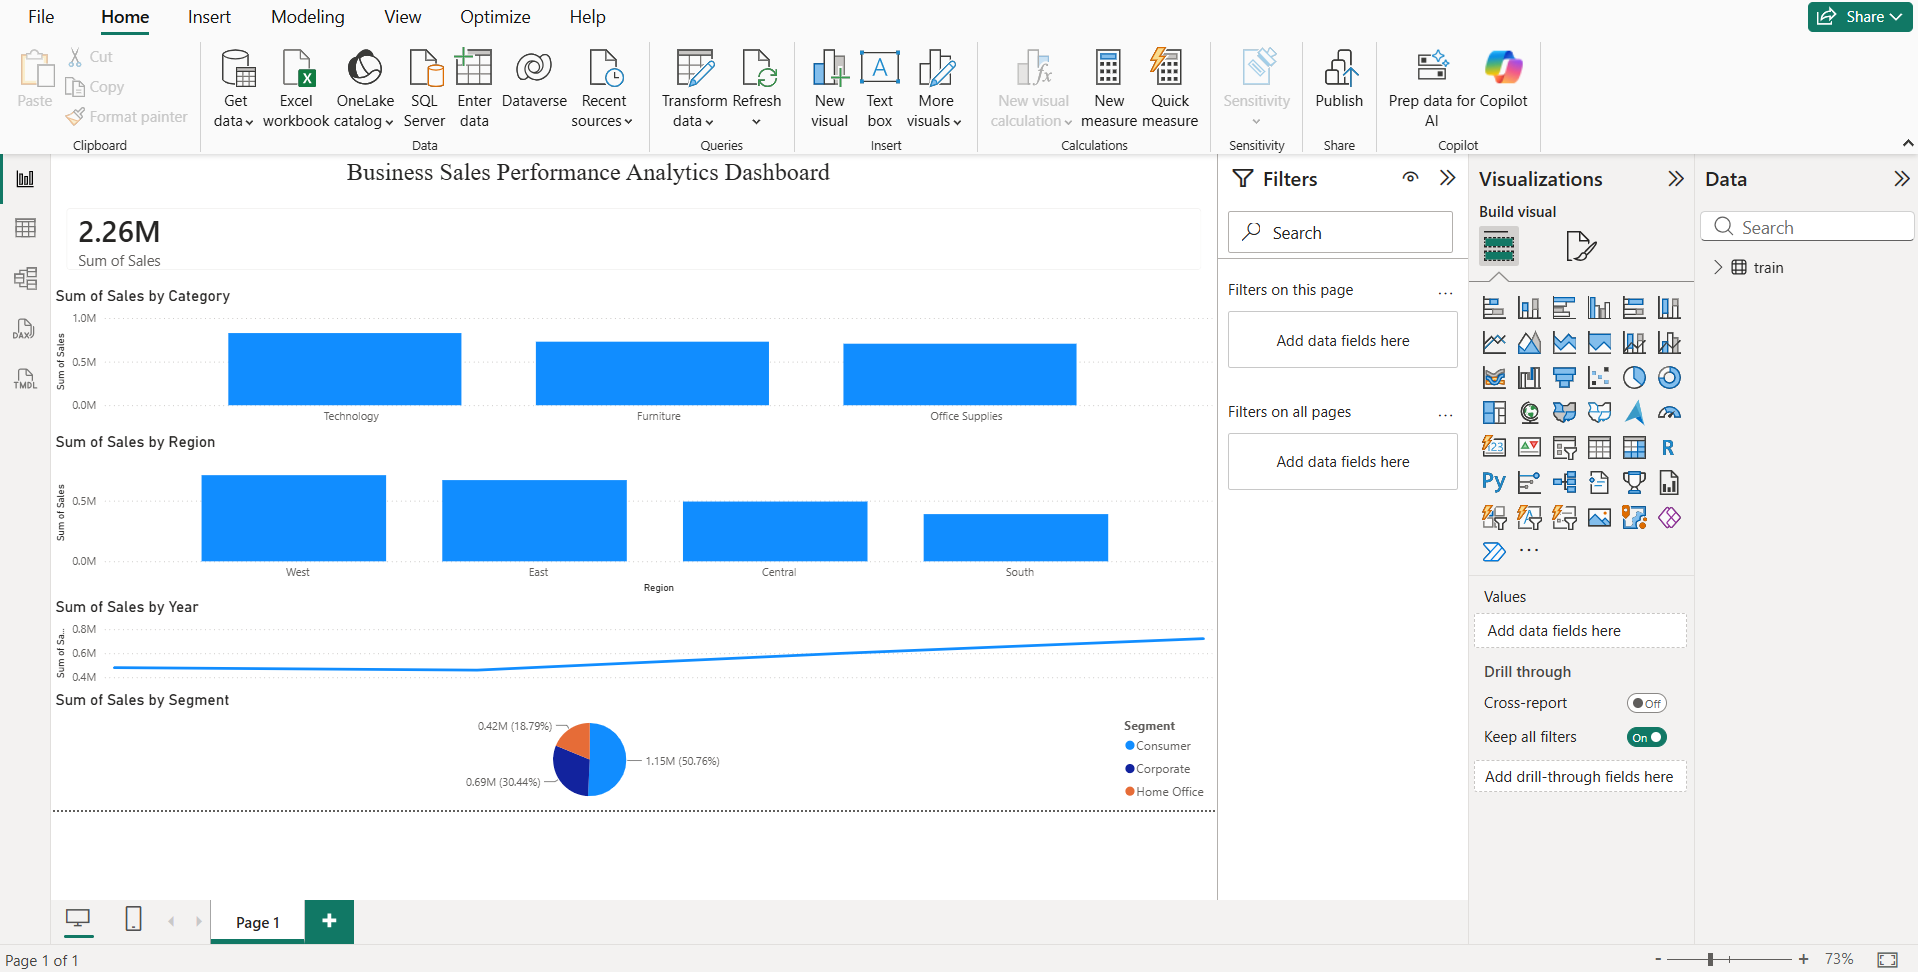

This screenshot's page, from the dashboard's own definition file:
{"tool":"powerbi","page":{"name":"Page 1","canvas":[1280,720],"ordinal":0},"visuals":[{"type":"clusteredColumnChart","fields":{"Category":["train.Category"],"Y":["Sum(train.Sales)"]},"box":[0,145.5,1280.3,160.5],"z":0},{"type":"cardVisual","fields":{"Data":["Sum(train.Sales)"]},"box":[0,42.5,1280.3,102.9],"z":1},{"type":"clusteredColumnChart","fields":{"Category":["train.Region"],"Y":["Sum(train.Sales)"]},"box":[0,306,1280.3,181.1],"z":2},{"type":"lineChart","fields":{"Category":["train.Order Date.Variation.Date Hierarchy.Year","train.Order Date.Variation.Date Hierarchy.Quarter","train.Order Date.Variation.Date Hierarchy.Month","train.Order Date.Variation.Date Hierarchy.Day"],"Y":["Sum(train.Sales)"]},"box":[0,487.1,1280.3,101.5],"z":3},{"type":"pieChart","fields":{"Category":["train.Segment"],"Y":["Sum(train.Sales)"]},"box":[0,588.7,1280.3,131.7],"z":4},{"type":"textbox","box":[0,0,1280.3,42.5],"z":5}]}

Visuals, with their boxes on the page's 1280x720 design canvas (x1, y1, x2, y2). These are canvas units, not pixel positions in the 1918x972 screenshot, which may show the page scaled, cropped or inside an application window:
clusteredColumnChart - train.Category x Sum(train.Sales): 0 146 1280 306
cardVisual - Sum(train.Sales): 0 42 1280 145
clusteredColumnChart - train.Region x Sum(train.Sales): 0 306 1280 487
lineChart - train.Order Date.Variation.Date Hierarchy.Year x train.Order Date.Variation.Date Hierarchy.Quarter: 0 487 1280 589
pieChart - train.Segment x Sum(train.Sales): 0 589 1280 720
textbox: 0 0 1280 42
